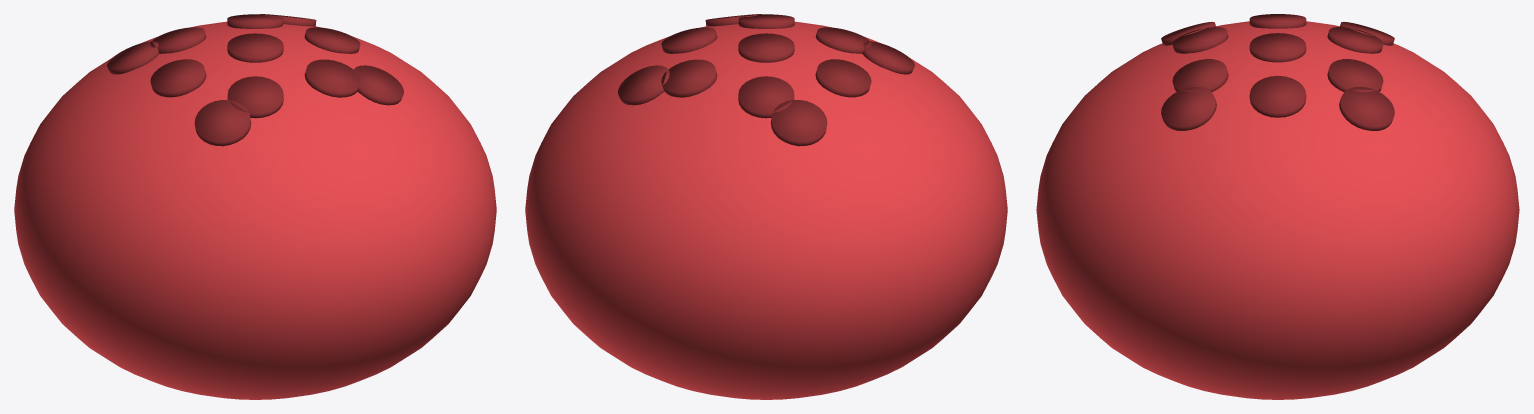
Rendered from peg.glb.
3 views of the same model, side by side, from view 1: azimuth 30°, elevation 25°; view 2: azimuth 150°, elevation 25°; view 3: azimuth 270°, elevation 25° (orthographic).
Visible parts, largest first — view 1: Peg_Body, Peg_Mark_7, Peg_Mark_6, Peg_Mark_2, Peg_Mark_4, Peg_Mark_1; view 2: Peg_Body, Peg_Mark_7, Peg_Mark_6, Peg_Mark_4, Peg_Mark_2, Peg_Mark_1; view 3: Peg_Body, Peg_Mark_7, Peg_Mark_6, Peg_Mark_2, Peg_Mark_4, Peg_Mark_1, Peg_Mark_3.
Boxes of the visible parts, <box> form: Peg_Body: <box>14,21,496,399</box>; Peg_Mark_7: <box>150,14,360,118</box>; Peg_Mark_6: <box>150,27,360,97</box>; Peg_Mark_2: <box>107,41,403,105</box>; Peg_Mark_4: <box>194,14,316,146</box>; Peg_Mark_1: <box>227,33,283,62</box>; Peg_Body: <box>525,21,1007,399</box>; Peg_Mark_7: <box>661,14,871,118</box>; Peg_Mark_6: <box>661,27,871,97</box>; Peg_Mark_4: <box>618,41,914,105</box>; Peg_Mark_2: <box>705,14,827,146</box>; Peg_Mark_1: <box>738,33,794,62</box>; Peg_Body: <box>1036,21,1519,399</box>; Peg_Mark_7: <box>1172,18,1383,116</box>; Peg_Mark_6: <box>1249,14,1305,117</box>; Peg_Mark_2: <box>1161,22,1394,130</box>; Peg_Mark_4: <box>1161,22,1394,130</box>; Peg_Mark_1: <box>1250,33,1306,61</box>; Peg_Mark_3: <box>1249,36,1306,62</box>.
Bounding box in the file's own units: 0.6 × 0.446 × 0.6.
